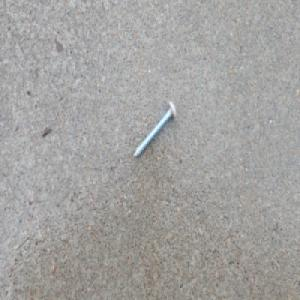Nail: (133, 99, 177, 159)
